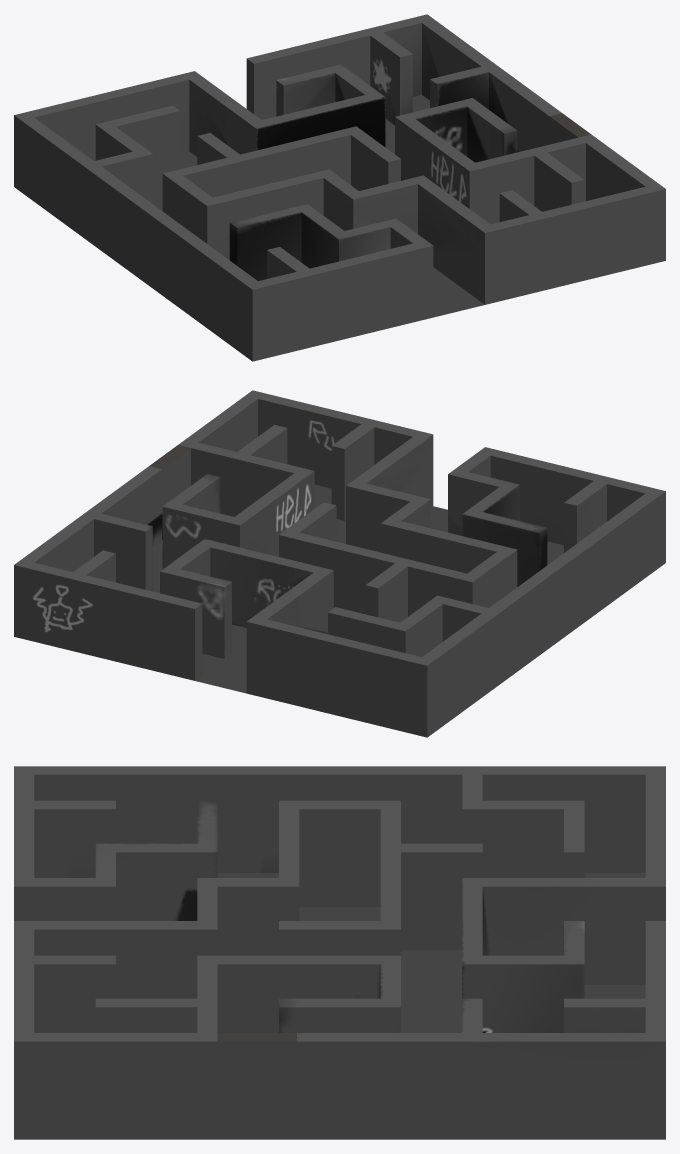
Rendered from MAZE.fbx.
The picture shows the model from 3 angles, top to bottom: view 1: azimuth 30°, elevation 25°; view 2: azimuth 150°, elevation 25°; view 3: azimuth 270°, elevation 25°; orthographic projection. The views are drawn at different scales.
Visible parts, largest first — view 1: Plane.001; view 2: Plane.001; view 3: Plane.001.
Part boxes in pixels (<box>): Plane.001: <box>14,14,665,361</box>; Plane.001: <box>14,390,665,737</box>; Plane.001: <box>14,766,665,1139</box>.
Bounding box in the file's own units: 4934 × 819 × 4934.
3 materials, 1 textured.
